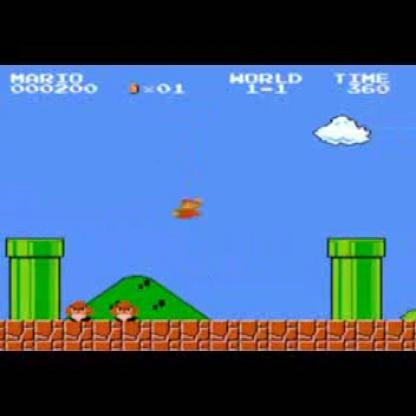Goomba: (67, 296, 95, 322), (110, 297, 139, 322)
